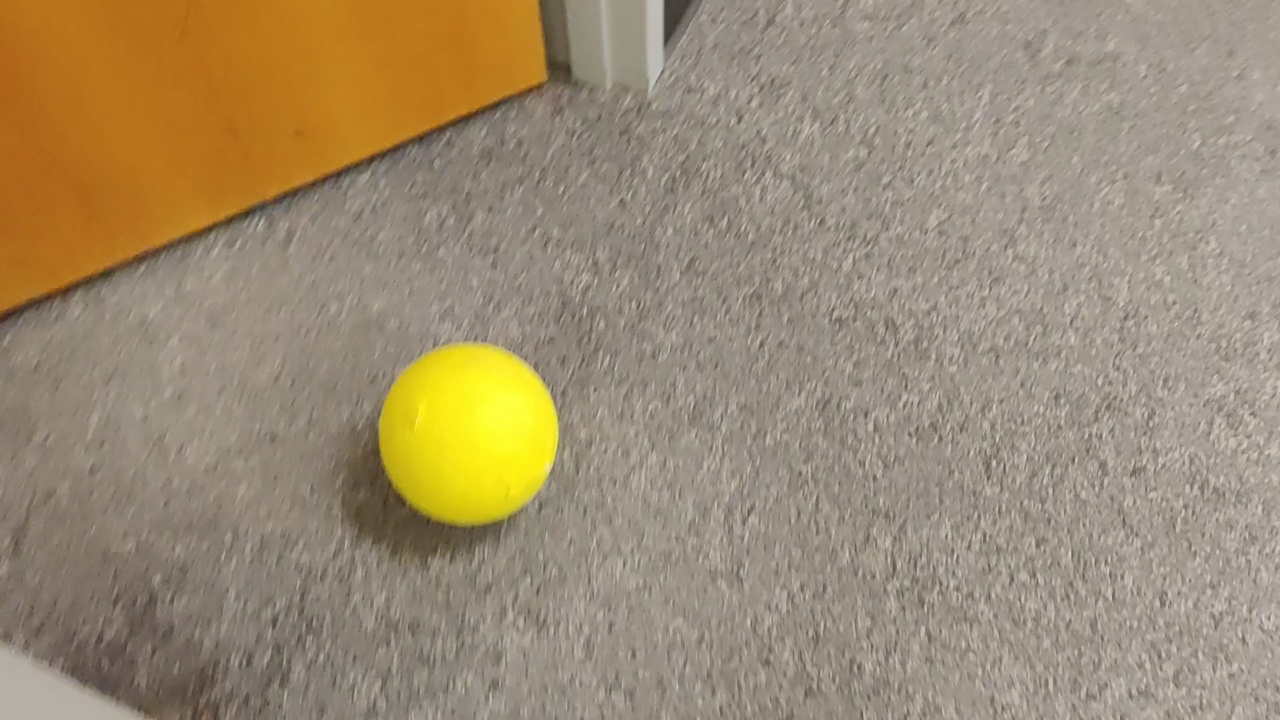Ball: (350, 329, 600, 544)
